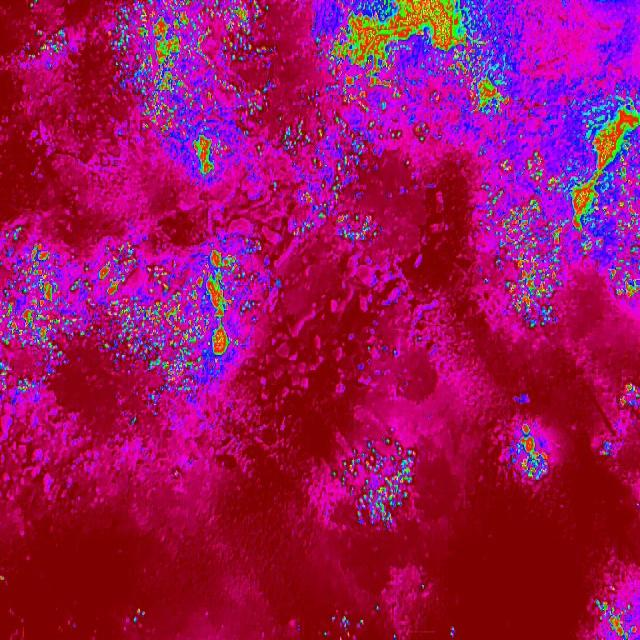fire: (0, 209, 276, 416), (472, 88, 640, 338), (112, 0, 280, 181), (275, 86, 442, 250), (302, 0, 476, 89), (326, 431, 416, 544), (456, 65, 524, 123), (508, 411, 548, 495), (593, 591, 640, 639), (25, 21, 74, 67), (310, 612, 375, 640), (610, 378, 640, 419)
